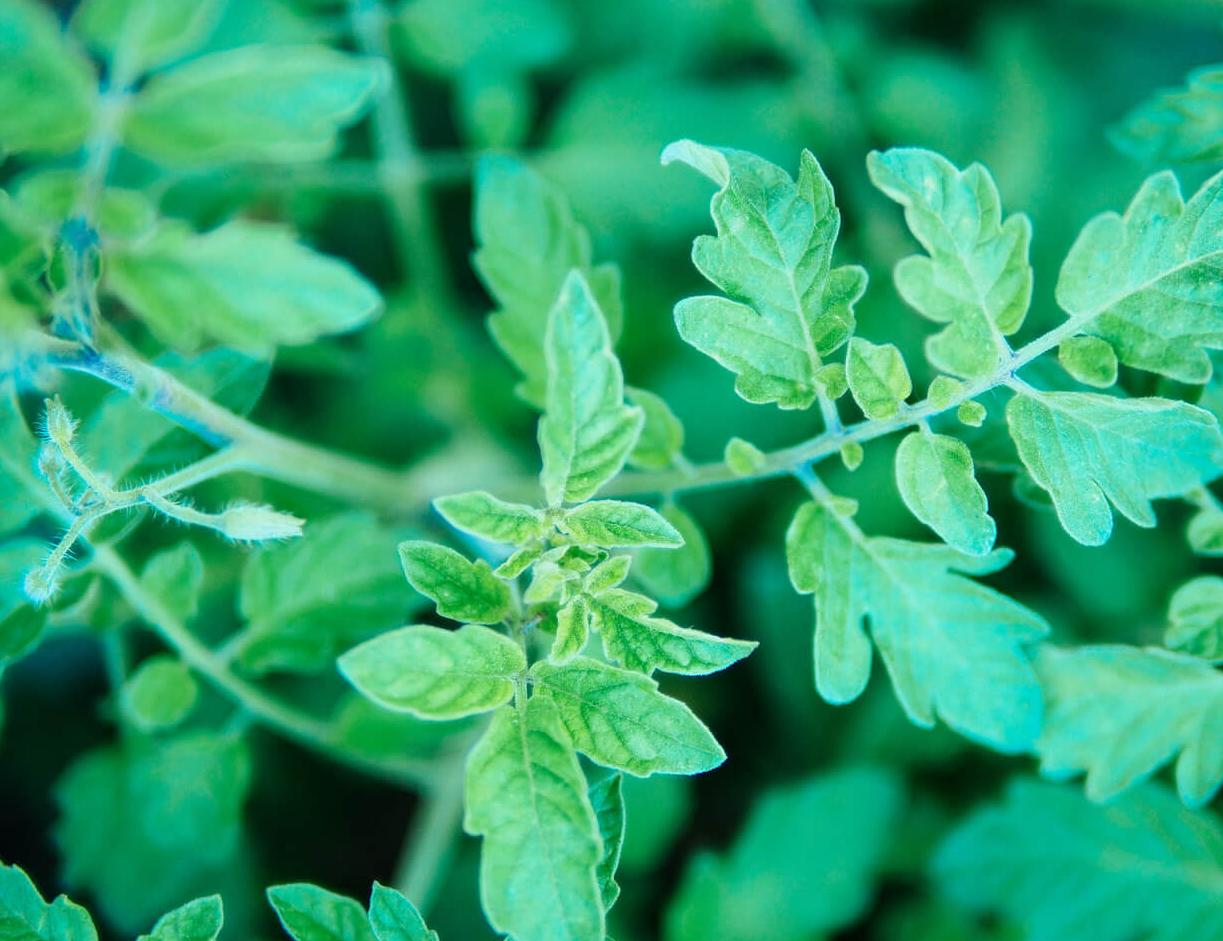Tomato leaf: (780, 472, 1042, 762), (661, 115, 867, 430), (884, 100, 1022, 400), (1050, 156, 1223, 389), (1001, 372, 1223, 549), (465, 681, 595, 941), (516, 656, 746, 790), (529, 268, 641, 521), (335, 619, 524, 719)
